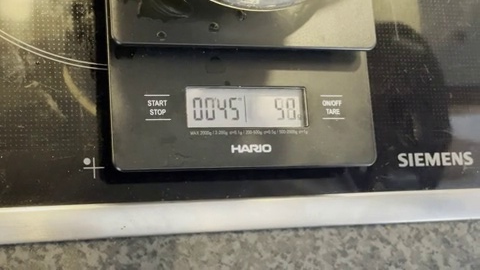display: (185, 86, 306, 126)
